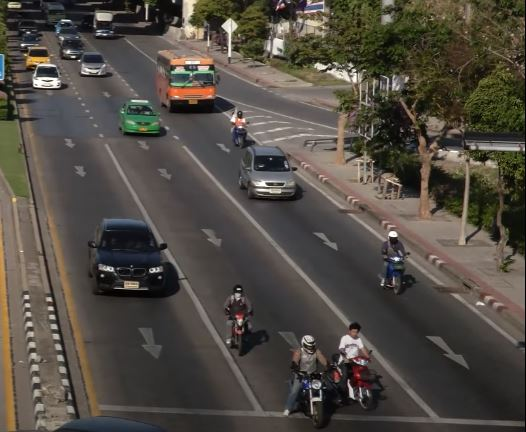Bus: (155, 48, 218, 115)
Car: (87, 218, 168, 297), (237, 144, 296, 201), (119, 98, 161, 138), (30, 63, 62, 89), (77, 52, 107, 78), (24, 46, 52, 70), (59, 38, 84, 60)
Motorcycle: (329, 322, 381, 409), (286, 331, 334, 422), (221, 280, 256, 353), (378, 228, 410, 294), (230, 107, 251, 146)
Truck: (92, 9, 115, 38)
